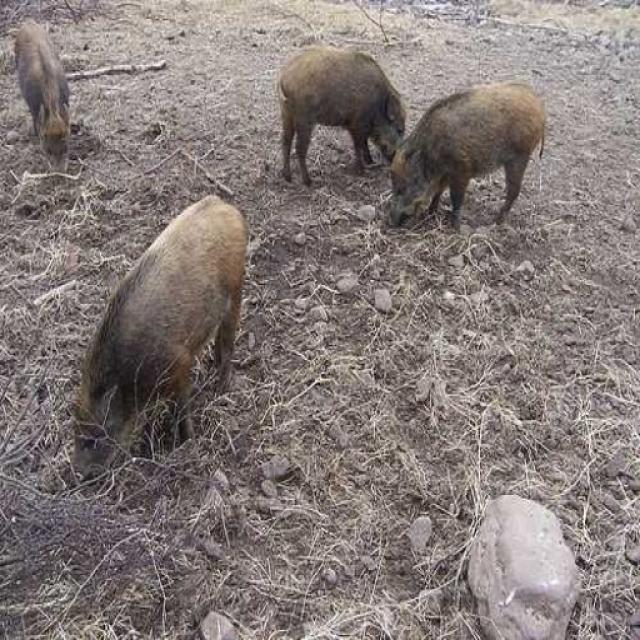pig: (56, 138, 275, 510), (374, 43, 548, 236), (246, 0, 417, 170)
